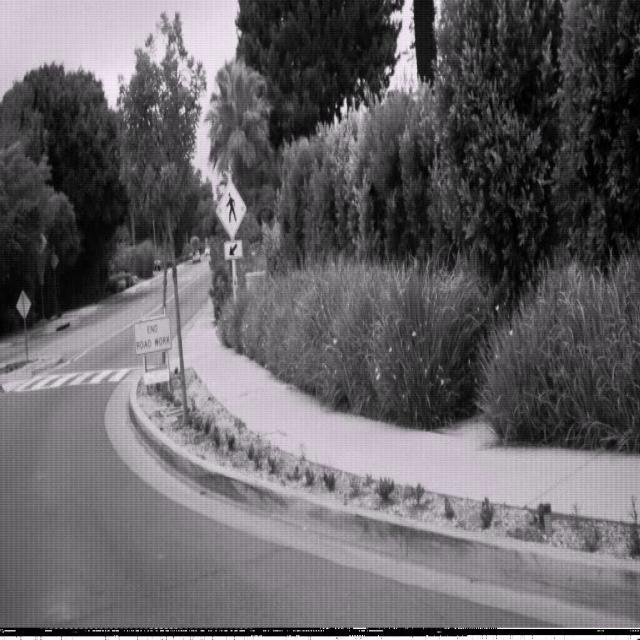pedestrianCrossing: (215, 176, 247, 242)
